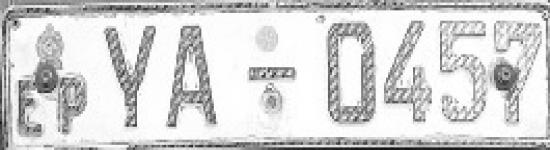-: (243, 59, 302, 90)
0: (320, 11, 380, 136)
4: (382, 17, 437, 133)
5: (438, 19, 490, 129)
7: (492, 18, 546, 130)
A: (162, 24, 227, 137)
E: (14, 70, 50, 144)
P: (54, 71, 96, 144)
Y: (98, 18, 161, 132)
